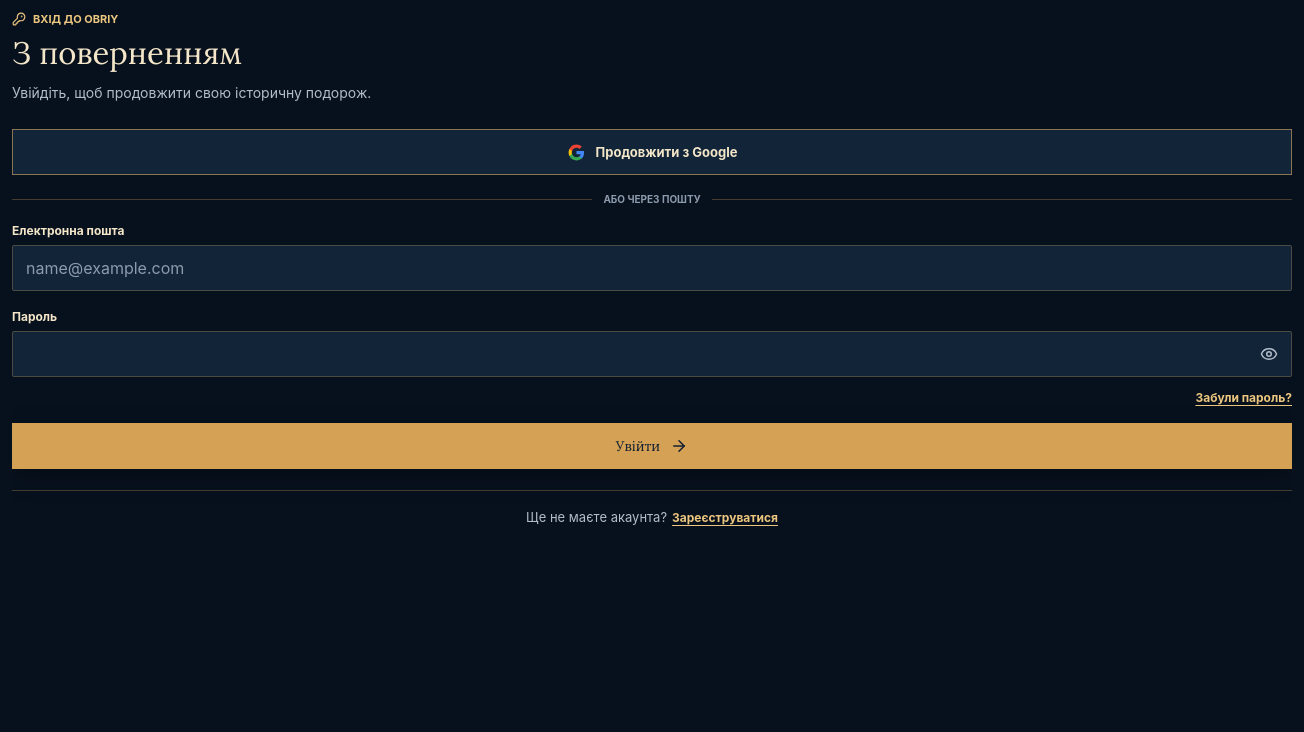
Test case: LoginPage › opens the suspension context instead of hiding the account reason
In the field labelled "Електронна пошта": [652, 268] box [12,245,1292,291], type "student@example.com"
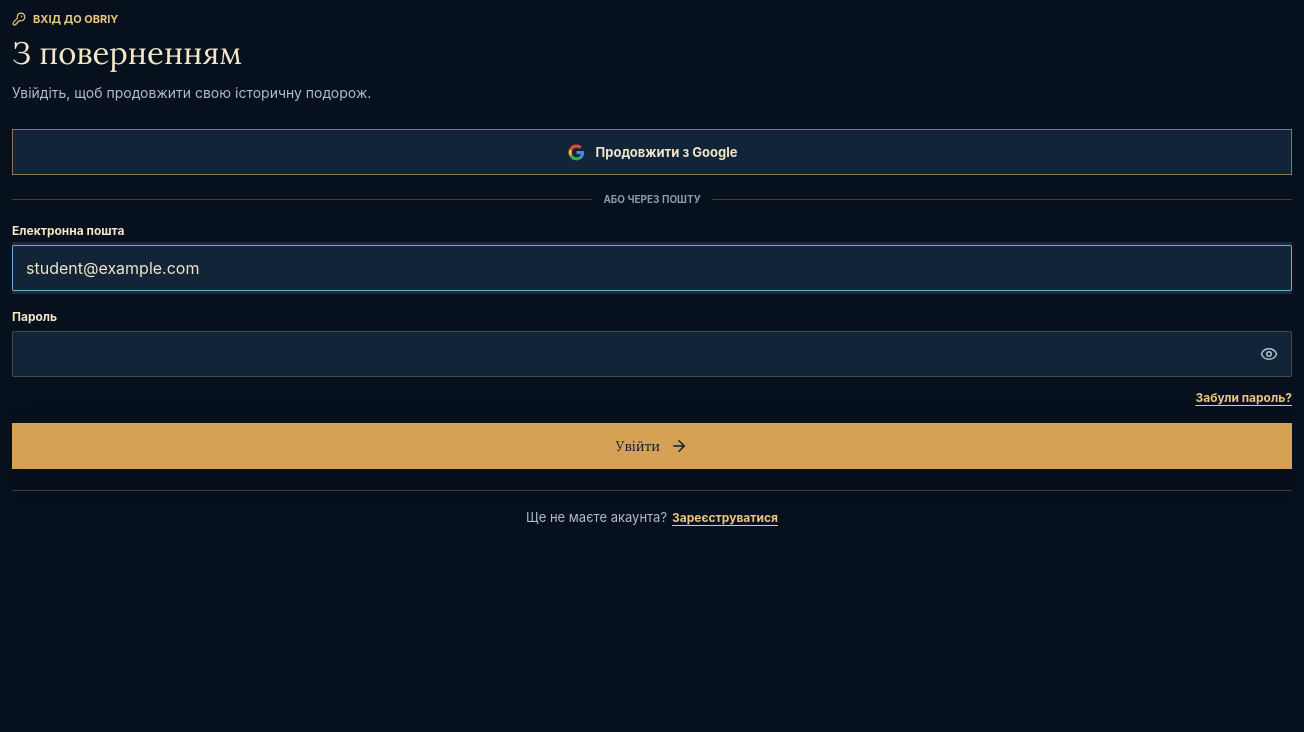
In the password field labelled "Пароль": [652, 354] box [12,331,1292,377], type "Secret1234"
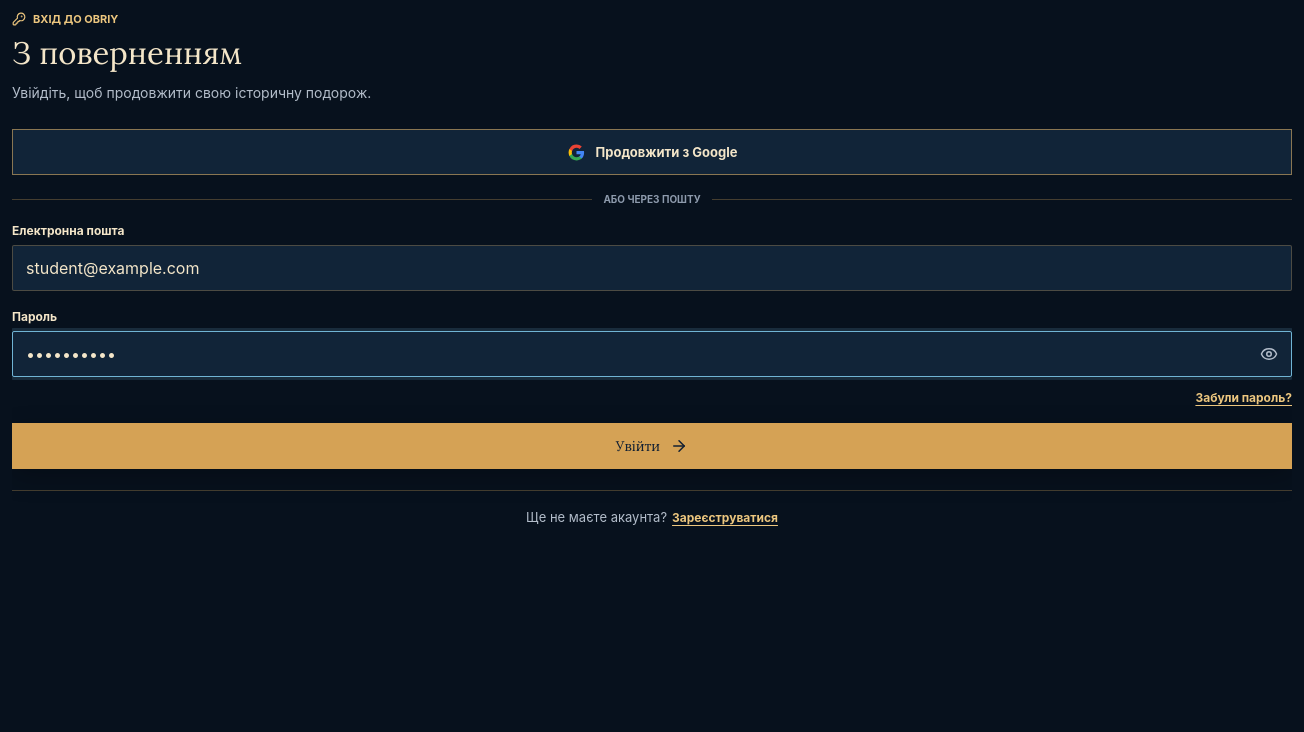
Click the button "Увійти": [652, 446] box [12,423,1292,469]
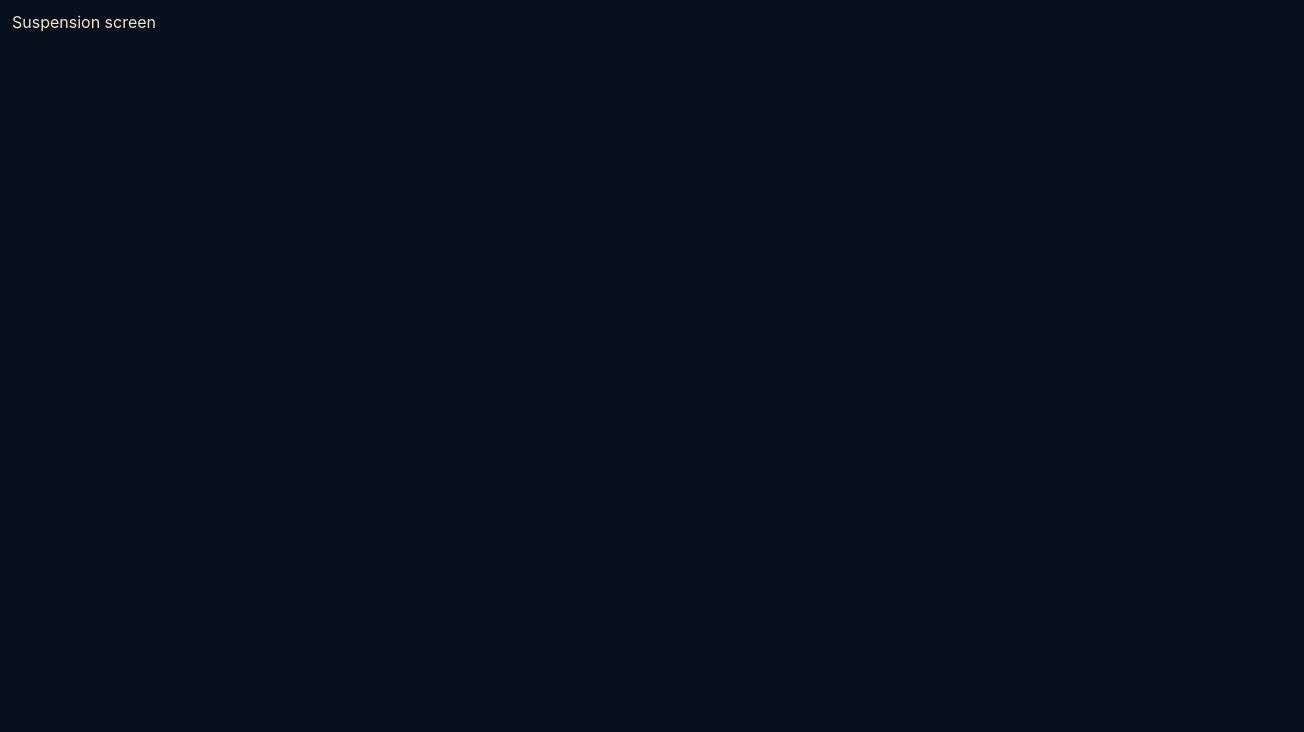
Expected: the text "Suspension screen" is shown, [12,12,156,32]
